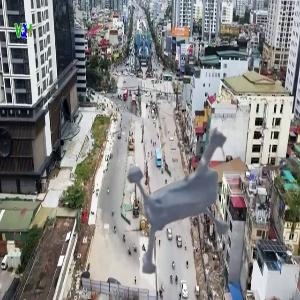drone: (97, 89, 273, 265)
